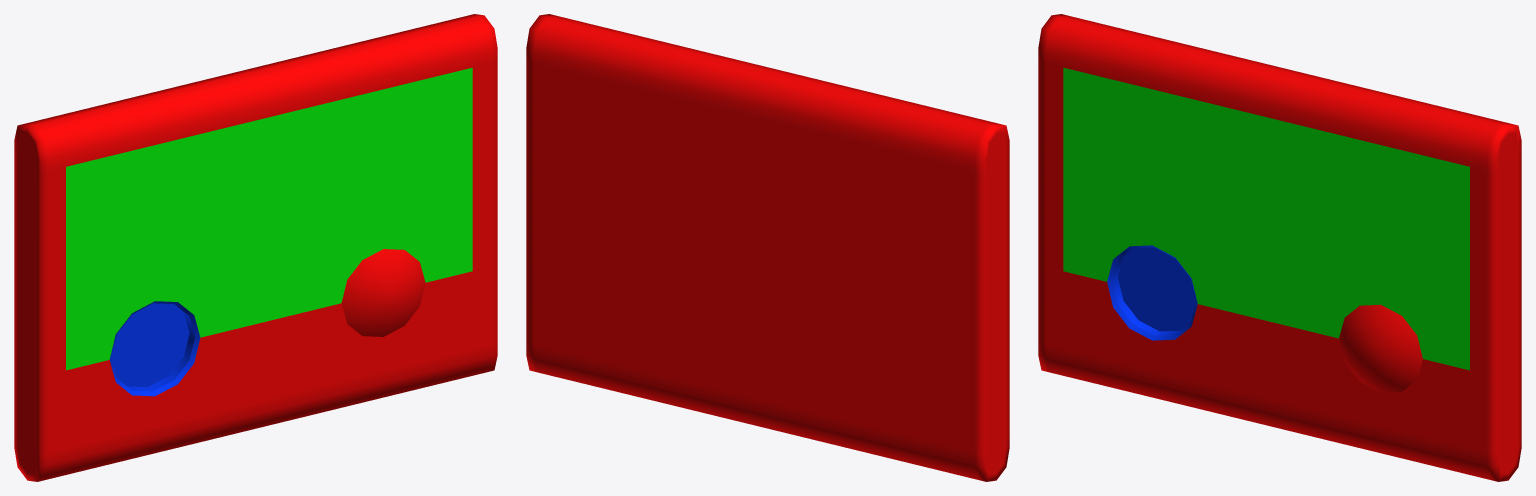
File: Safety_Badge.FBX
3 renders of one model, left to right at view 1: azimuth 30°, elevation 25°; view 2: azimuth 150°, elevation 25°; view 3: azimuth 330°, elevation 25°, orthographic.
Visible parts, largest first — view 1: Badge; view 2: Badge; view 3: Badge.
Boxes of the visible parts, x1,y1,x2,y2 form: Badge: (14,14,497,481); Badge: (526,14,1009,481); Badge: (1038,14,1521,481).
Bounding box in the file's own units: 1.5 × 1.11 × 0.1951.
